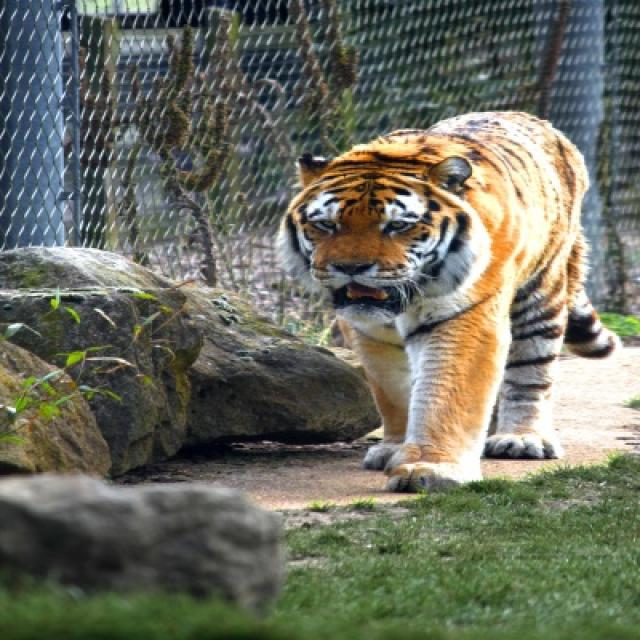Tiger: (282, 112, 618, 491), (384, 194, 424, 230)
